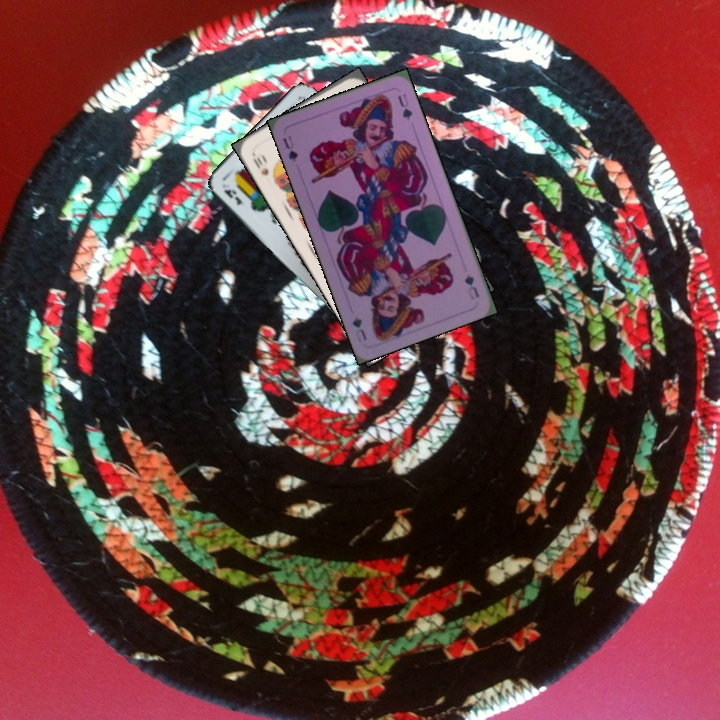EK: (218, 180, 245, 208)
GU: (279, 132, 301, 164), (461, 270, 482, 302)
S10: (249, 153, 271, 178)
